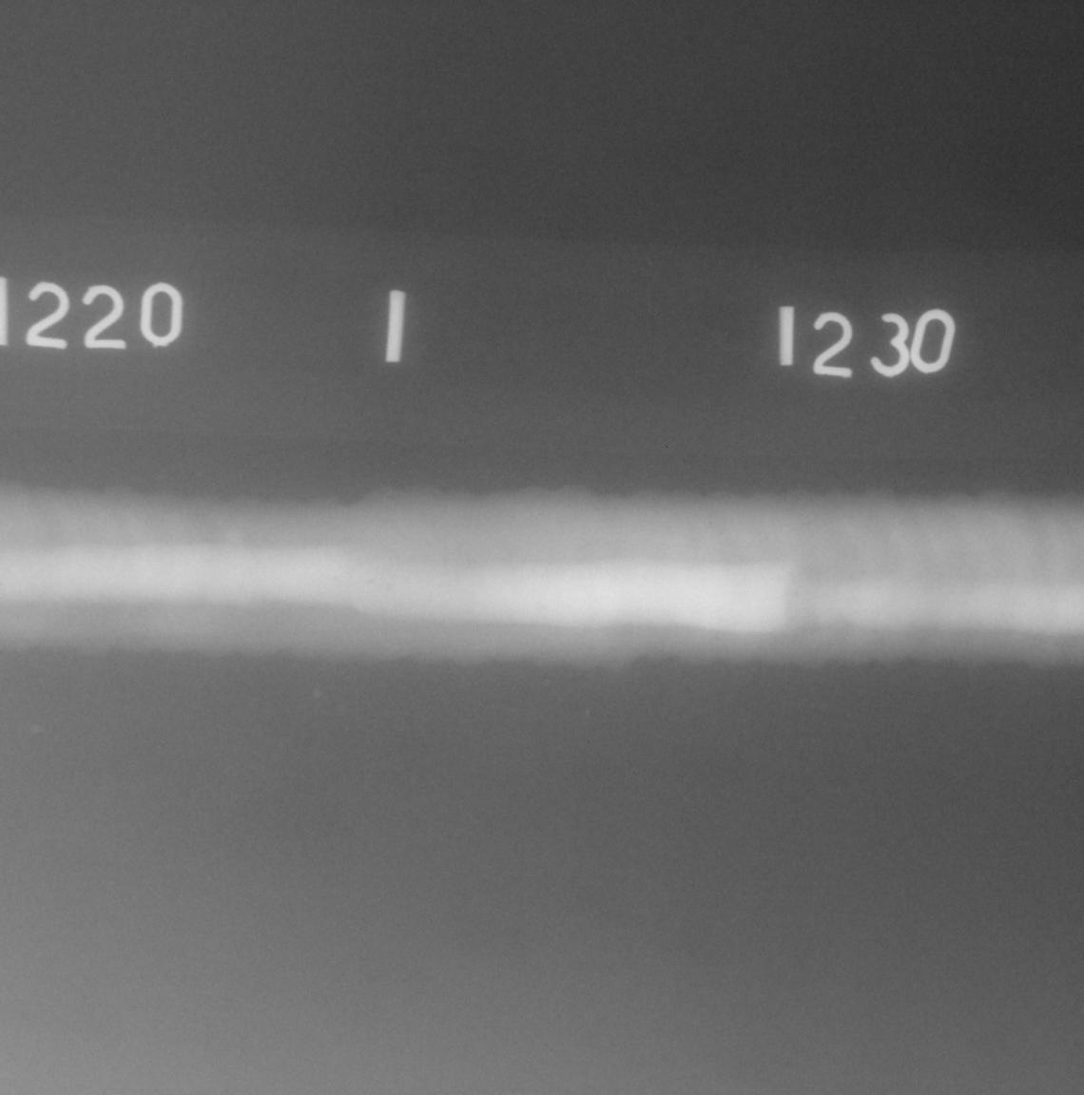Inclusion: (794, 591, 799, 597), (860, 571, 866, 575), (791, 617, 795, 621), (849, 576, 853, 579)
Pore/Porosity: (368, 580, 373, 583)
